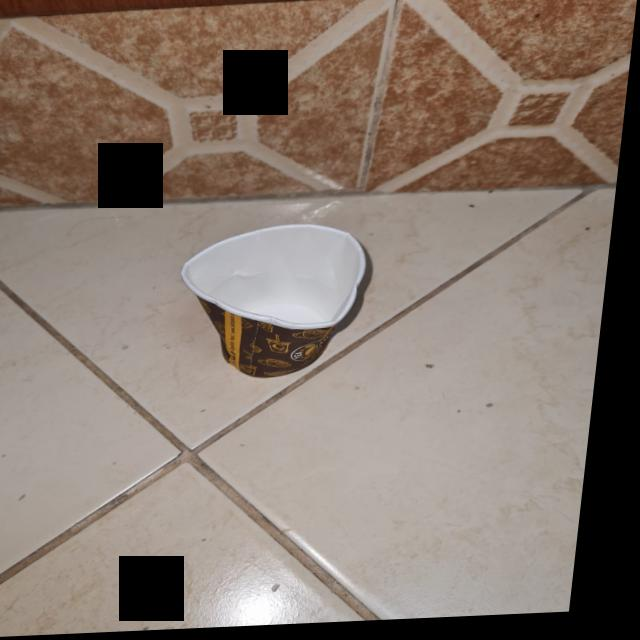cups: (181, 225, 392, 384)
